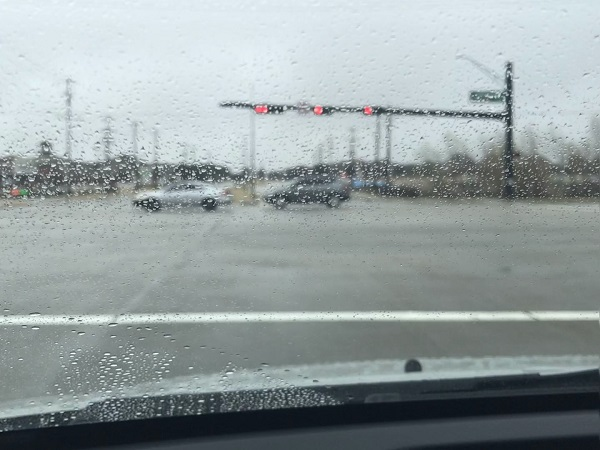car: (134, 182, 231, 210), (263, 177, 350, 208)
traffic light: (360, 105, 374, 118), (311, 103, 324, 116), (252, 103, 267, 114)
